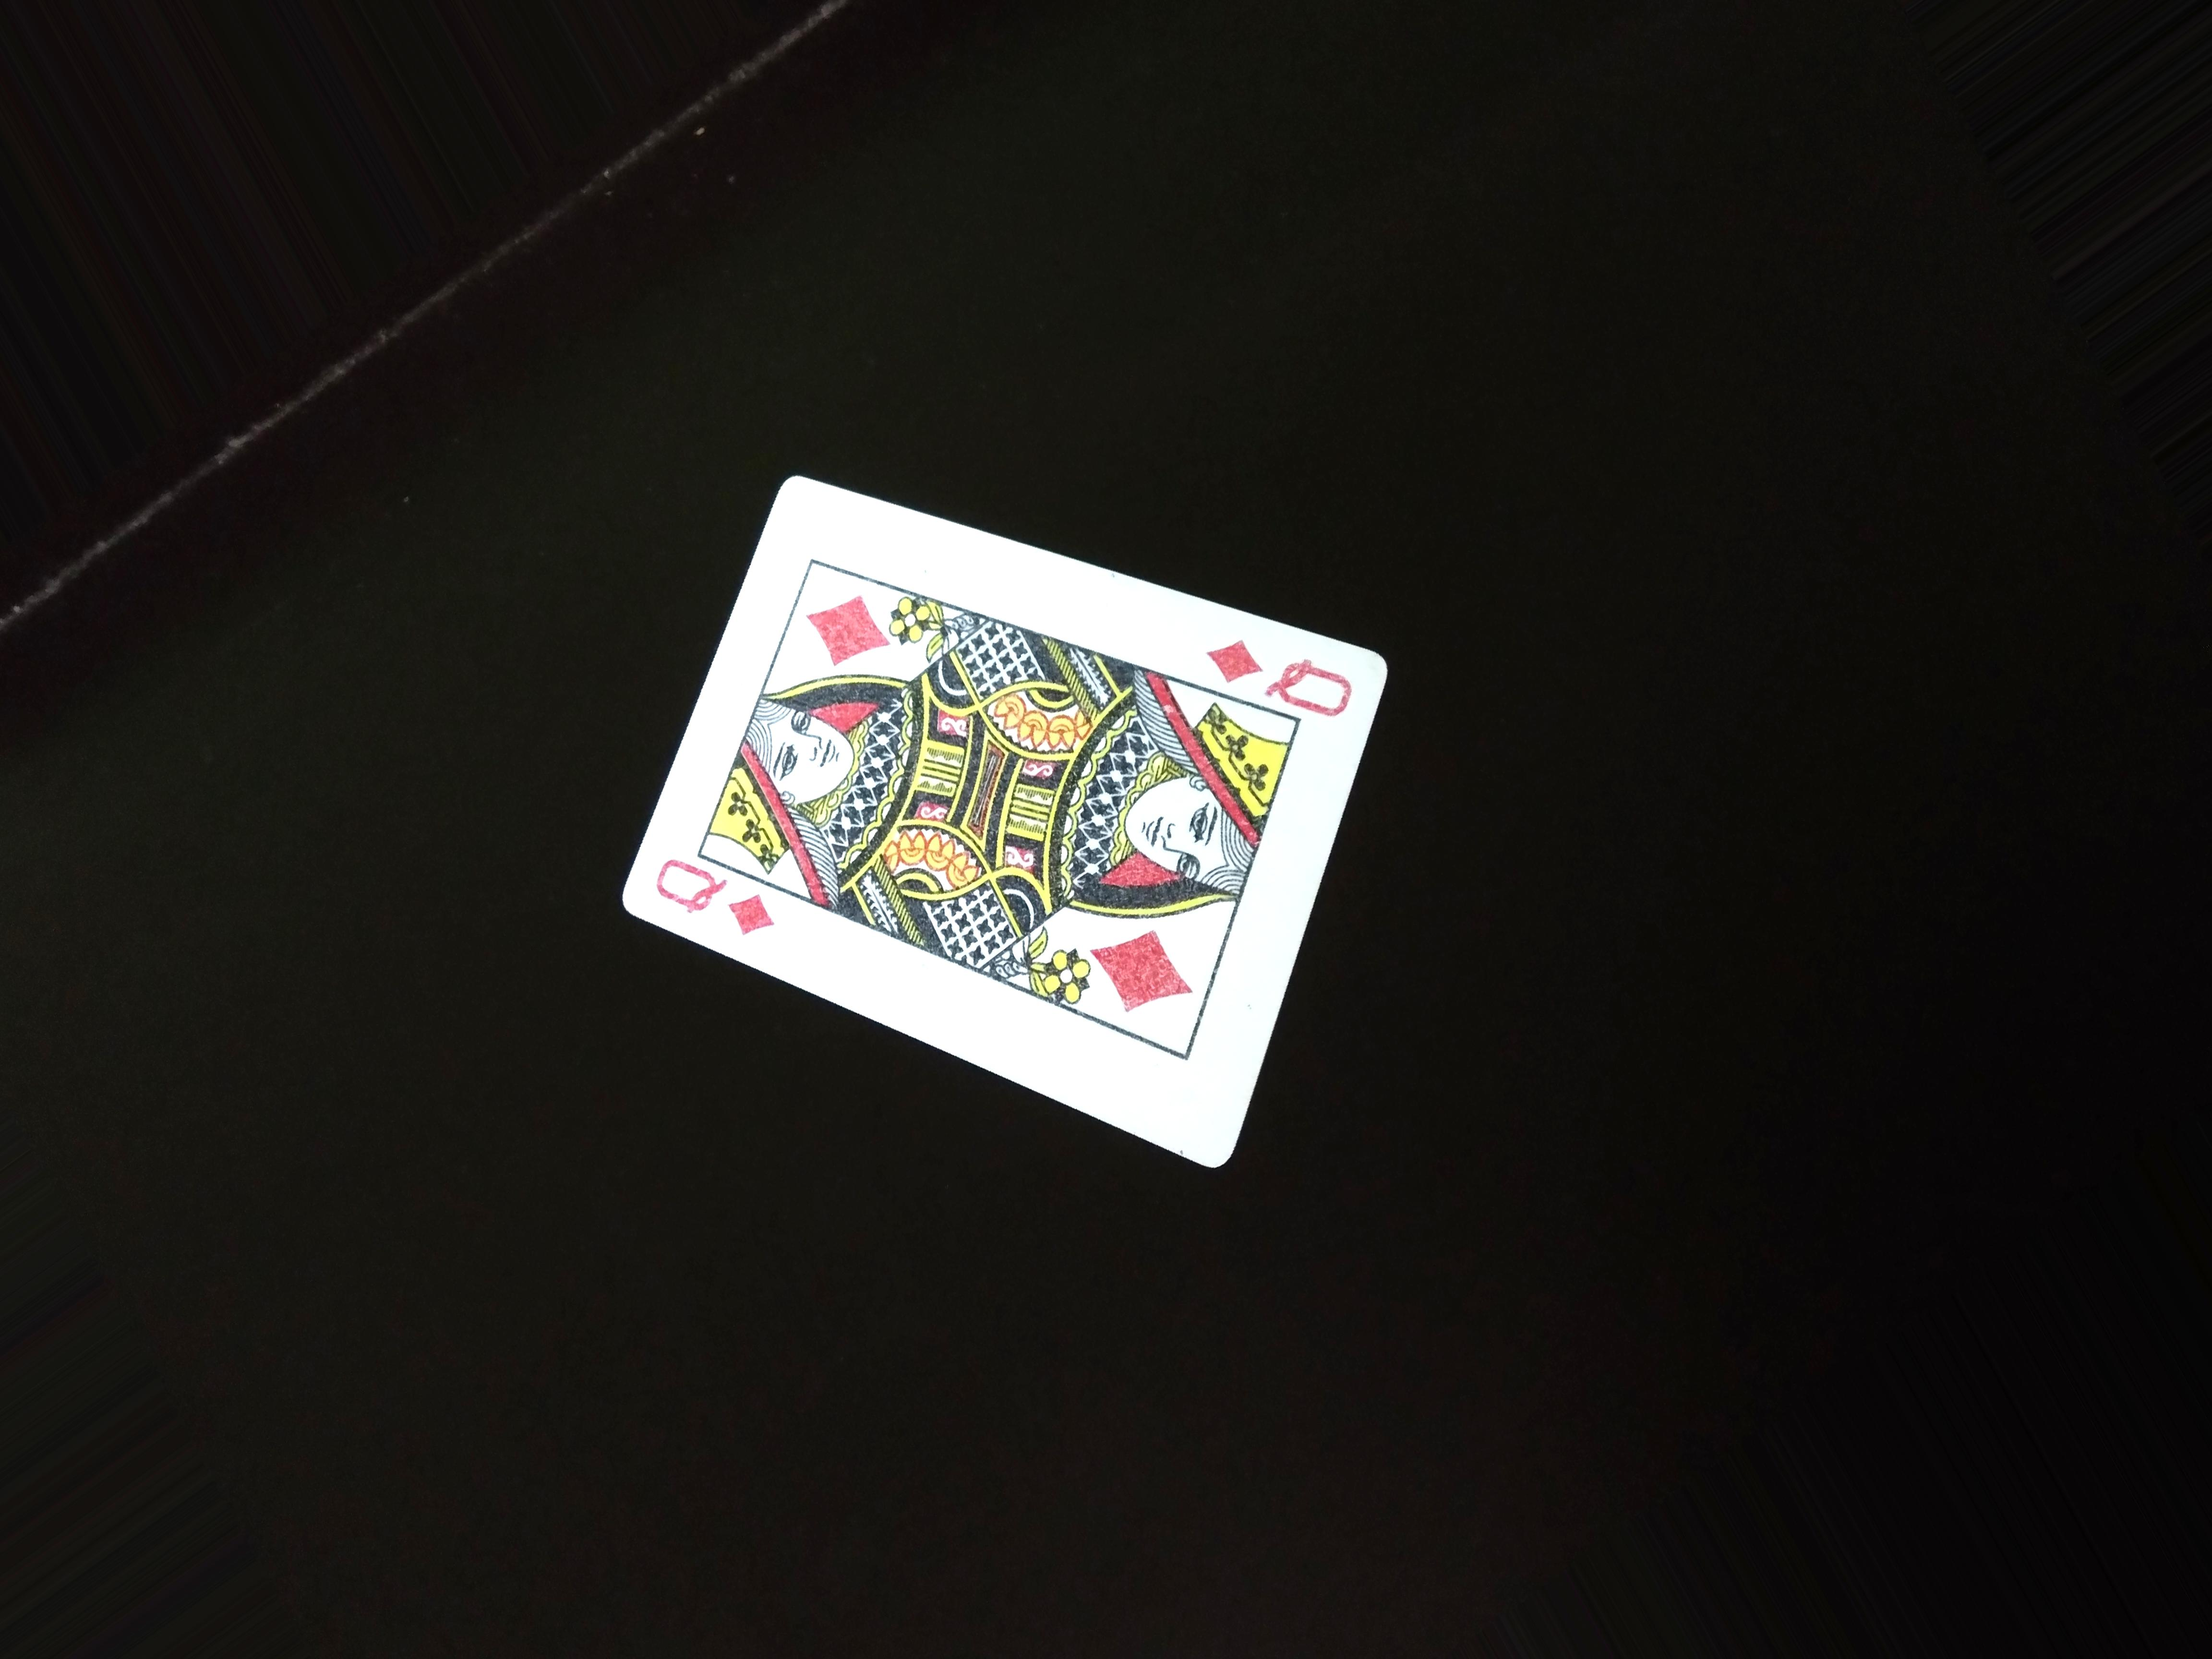QD: (1174, 605, 1367, 718)
